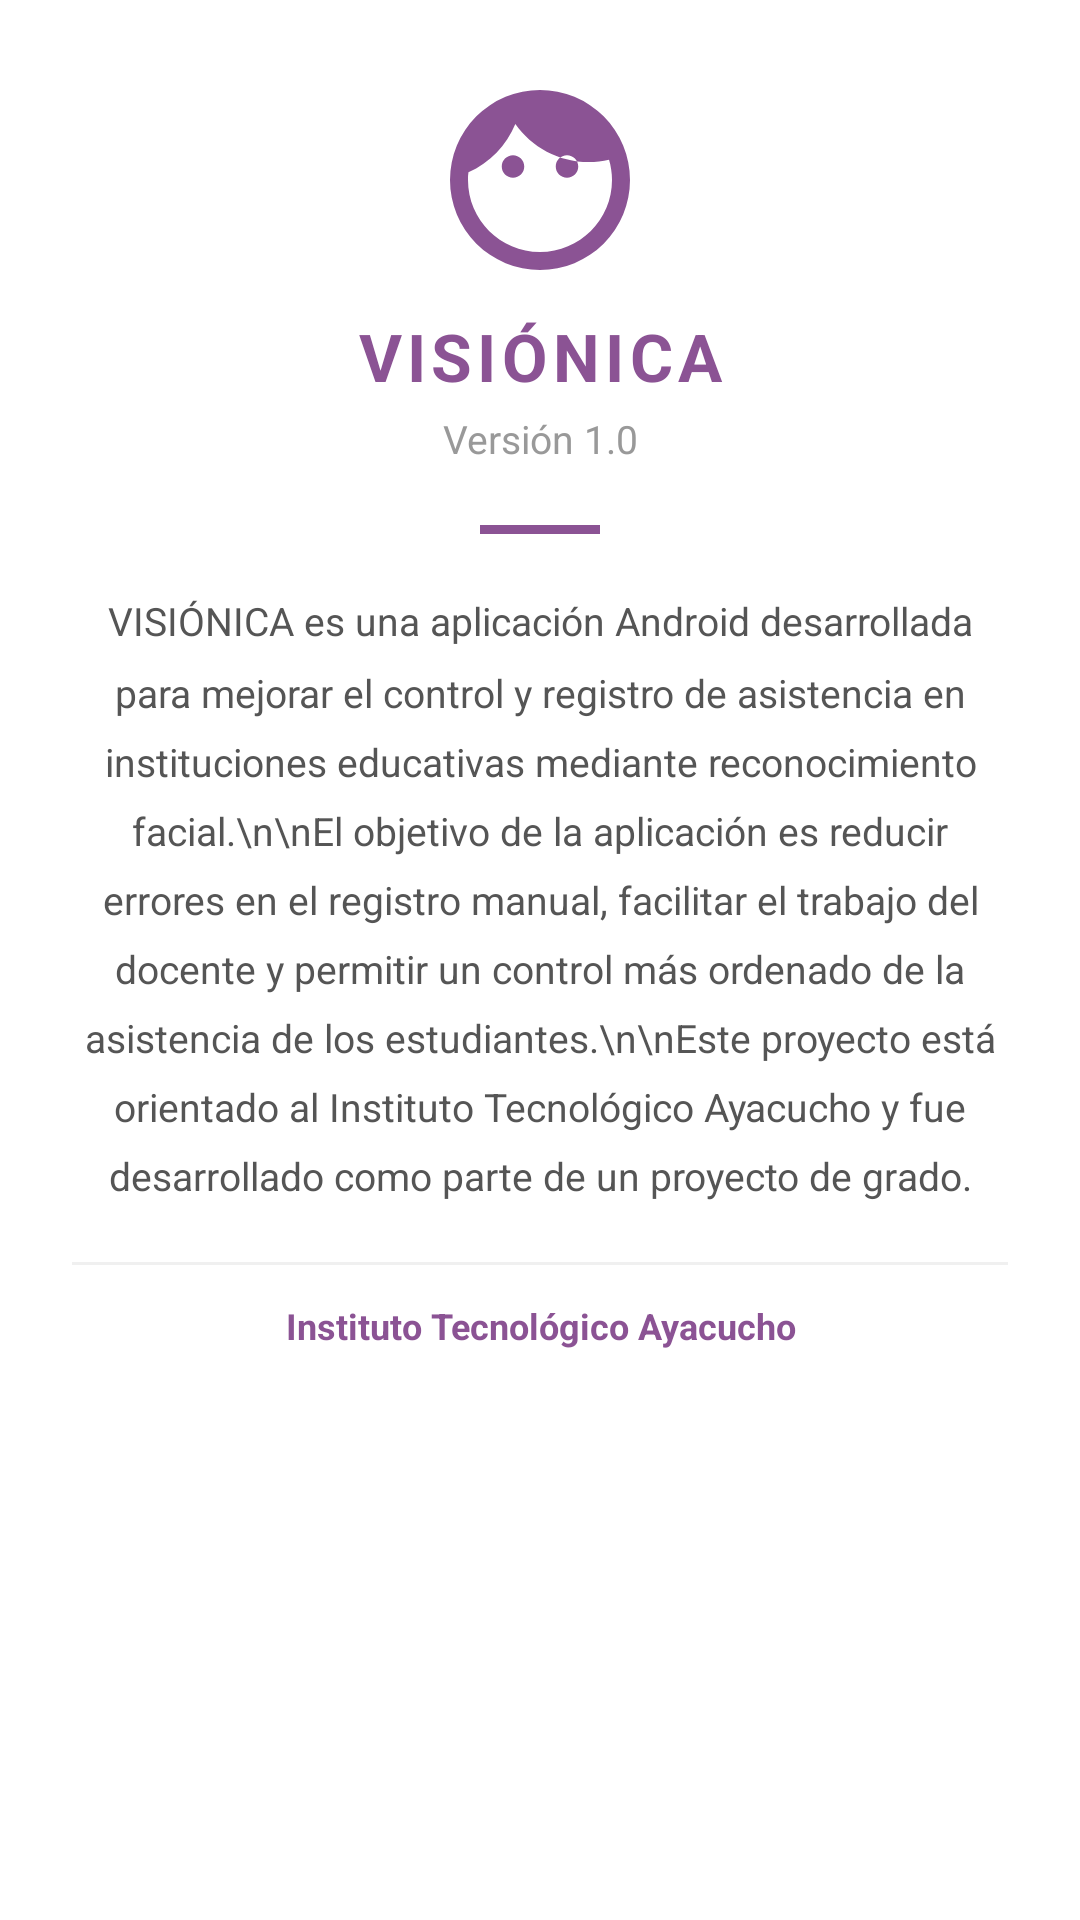

Named icons in this screenshot (1080x1920) and their bounding boxes, (x1, y1, x2, y2):
face recognition: (450, 90, 630, 270)
